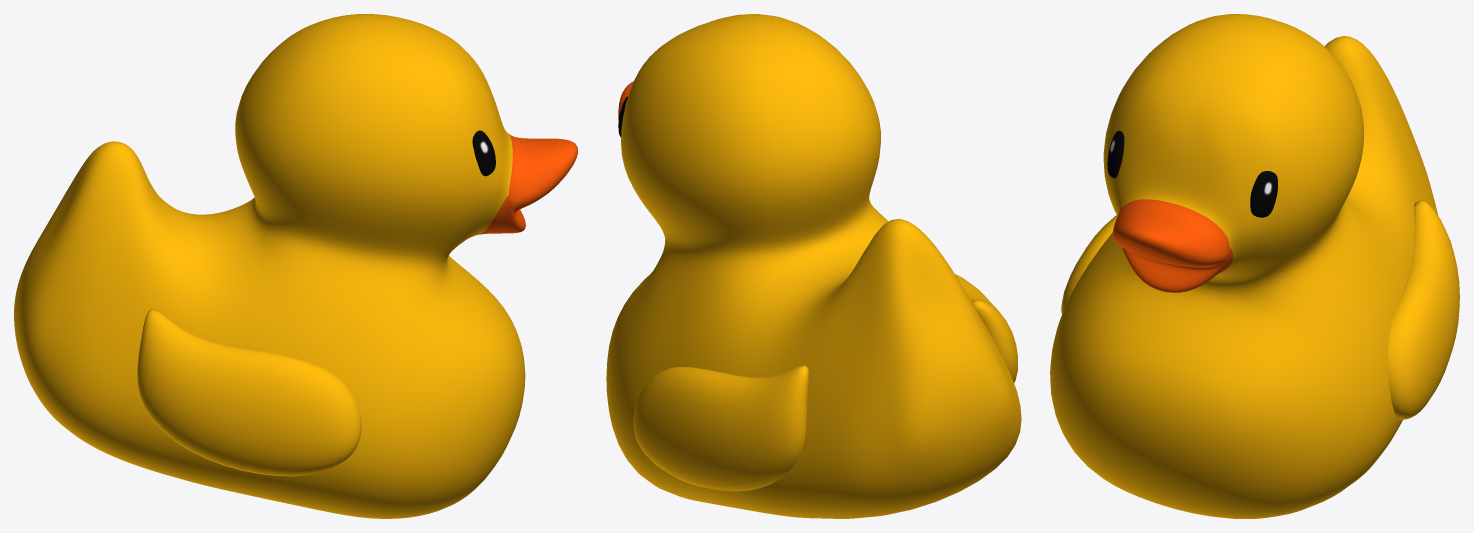
Rendered from rubber-duck.fbx.
3 views of the same model, side by side, from view 1: azimuth 30°, elevation 25°; view 2: azimuth 150°, elevation 25°; view 3: azimuth 270°, elevation 25° (orthographic).
Parts seen in each view (by area): view 1: Cube.001, Cube, Cube.002; view 2: Cube.001, Cube; view 3: Cube.001, Cube, Cube.002.
Boxes of the visible parts, box(x1,y1,x2,y2) form: Cube.001: box(14, 14, 577, 518); Cube: box(137, 309, 361, 476); Cube.002: box(472, 130, 495, 176); Cube.001: box(606, 14, 1021, 518); Cube: box(633, 274, 1017, 491); Cube.001: box(1050, 14, 1437, 518); Cube: box(1061, 200, 1459, 419); Cube.002: box(1107, 130, 1277, 217).
Size of the model in its own units: 530 by 500 by 400.
3 materials, 1 textured.
